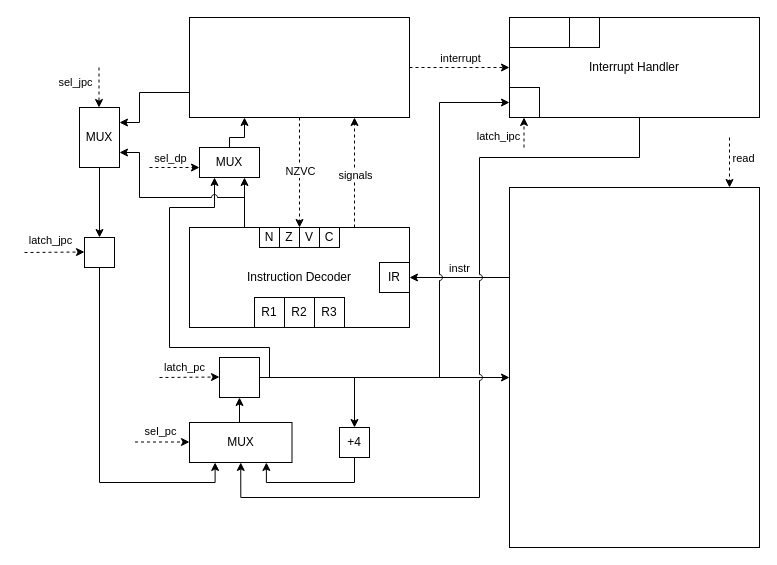
This 777x565 diagram has some shape labels left out. Here are the shapes that lost their labels. From the top down, the centre of each, then its label:
At point (539, 32): "IRQ".
At point (584, 32): "IE".
At point (299, 67): "Data Path".
At point (524, 102): "IPC".
At point (99, 252): "JPC".
At point (239, 377): "PC".
At point (634, 367): "Memory".
